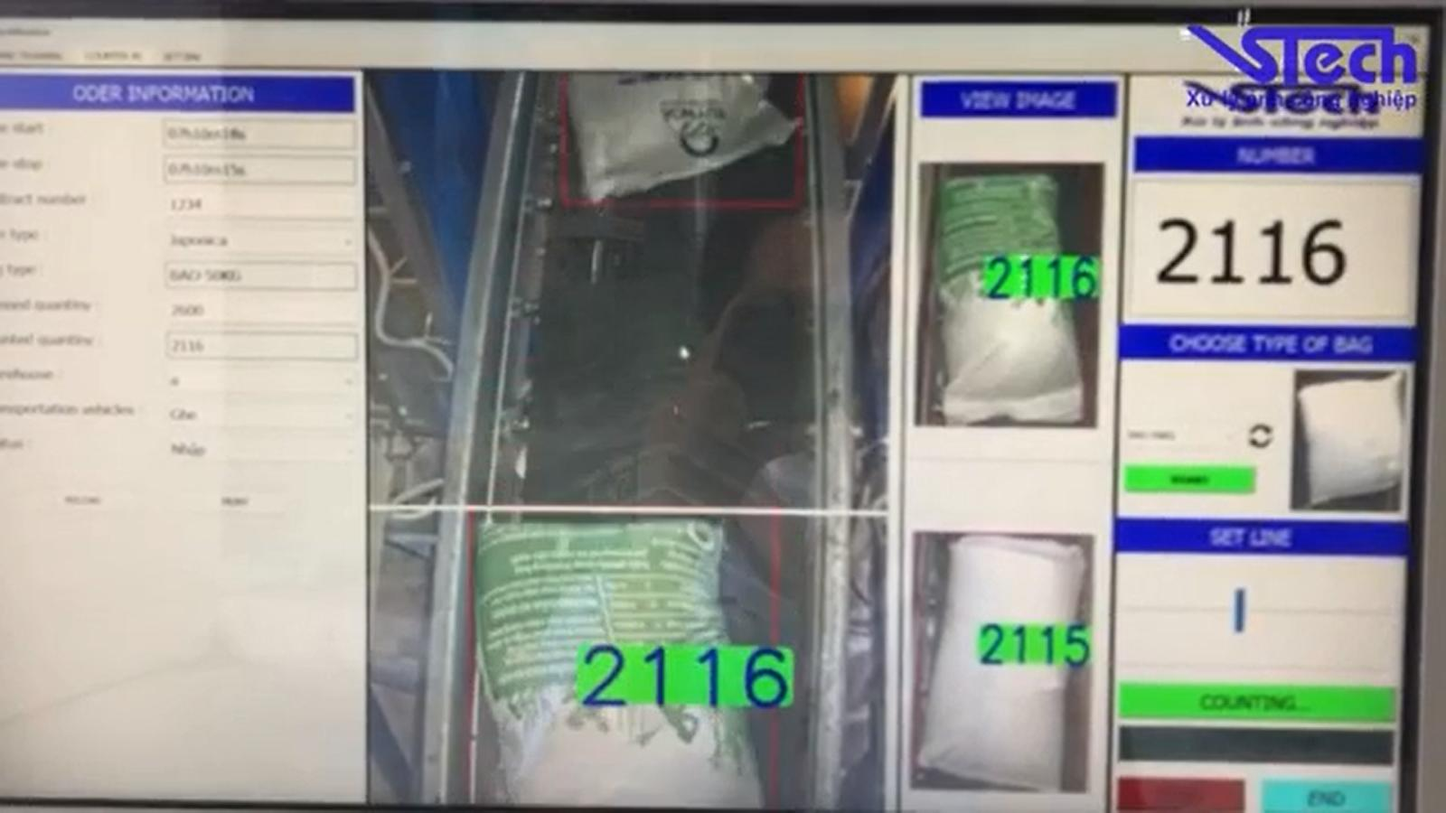rice-bag: (473, 520, 762, 806), (918, 535, 1082, 790), (934, 173, 1083, 424)
